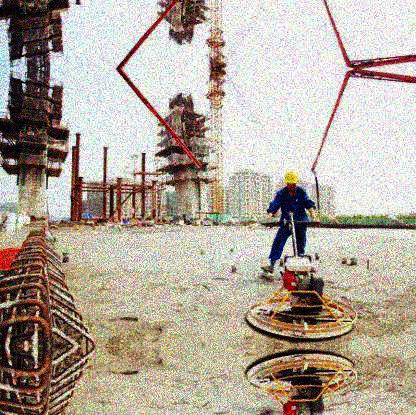helmet: (284, 171, 297, 192)
